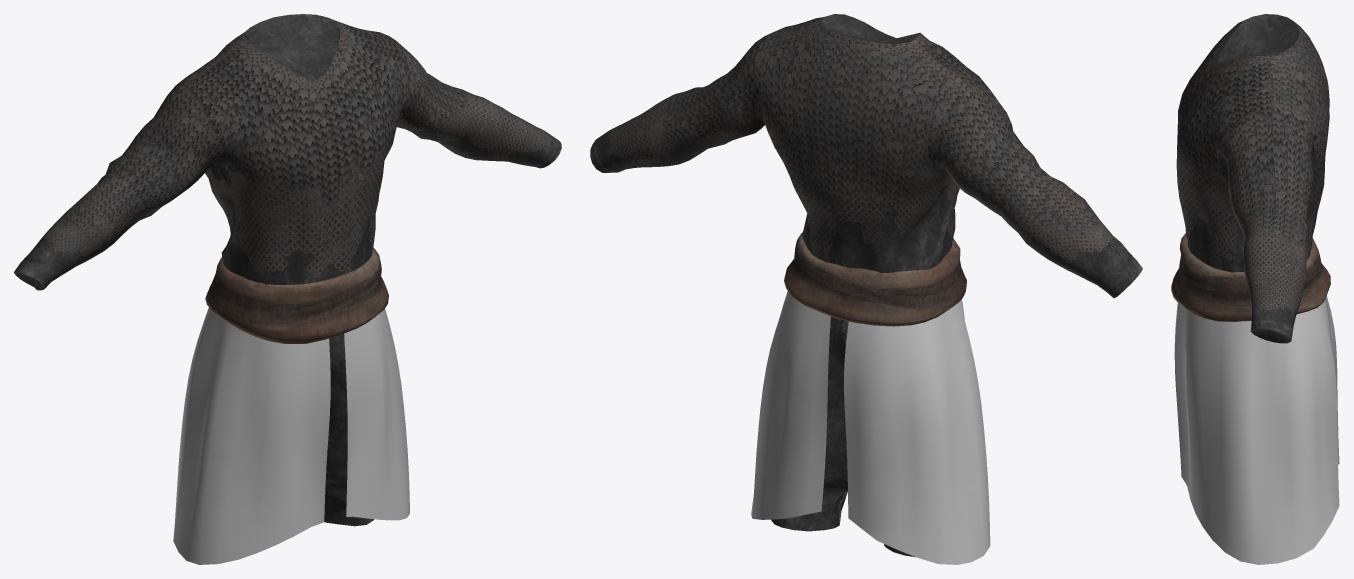
Rendered from sk_dg_uruk_chest_light_b.fbx.
3 renders of one model, left to right at view 1: azimuth 30°, elevation 25°; view 2: azimuth 150°, elevation 25°; view 3: azimuth 270°, elevation 25°, orthographic. The views are drawn at different scales.
Visible parts, largest first — view 1: sk_dg_uruk_chest_light_b.1, sk_dg_uruk_chest_light_b.skirt, sk_dg_uruk_chest_light_b.0; view 2: sk_dg_uruk_chest_light_b.1, sk_dg_uruk_chest_light_b.skirt, sk_dg_uruk_chest_light_b.0; view 3: sk_dg_uruk_chest_light_b.1, sk_dg_uruk_chest_light_b.skirt.
Part boxes in pixels (x1,y1,x2,y2): sk_dg_uruk_chest_light_b.1: (14,14,561,343); sk_dg_uruk_chest_light_b.skirt: (173,307,409,564); sk_dg_uruk_chest_light_b.0: (324,334,374,526); sk_dg_uruk_chest_light_b.1: (590,14,1142,326); sk_dg_uruk_chest_light_b.skirt: (751,291,990,564); sk_dg_uruk_chest_light_b.0: (771,316,915,557); sk_dg_uruk_chest_light_b.1: (1171,14,1330,343); sk_dg_uruk_chest_light_b.skirt: (1174,296,1339,564).
Size of the model in its own units: 1.35 by 0.379 by 1.2.
